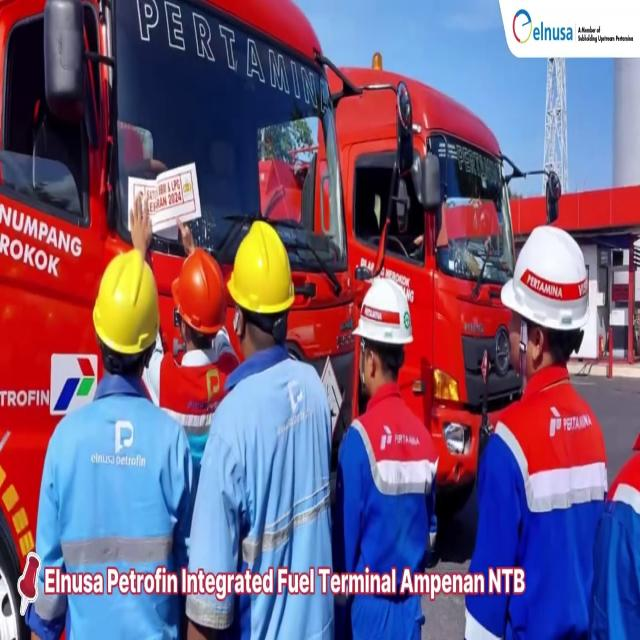Hardhat: (502, 230, 588, 329), (93, 254, 157, 354), (228, 224, 294, 312), (172, 250, 225, 334), (354, 279, 411, 337)
No Glove: (130, 198, 152, 249), (175, 217, 199, 250)
Overall Suit: (468, 364, 606, 640), (332, 384, 437, 640), (591, 428, 640, 640)
Strapped: (518, 314, 526, 382), (359, 335, 367, 382)
